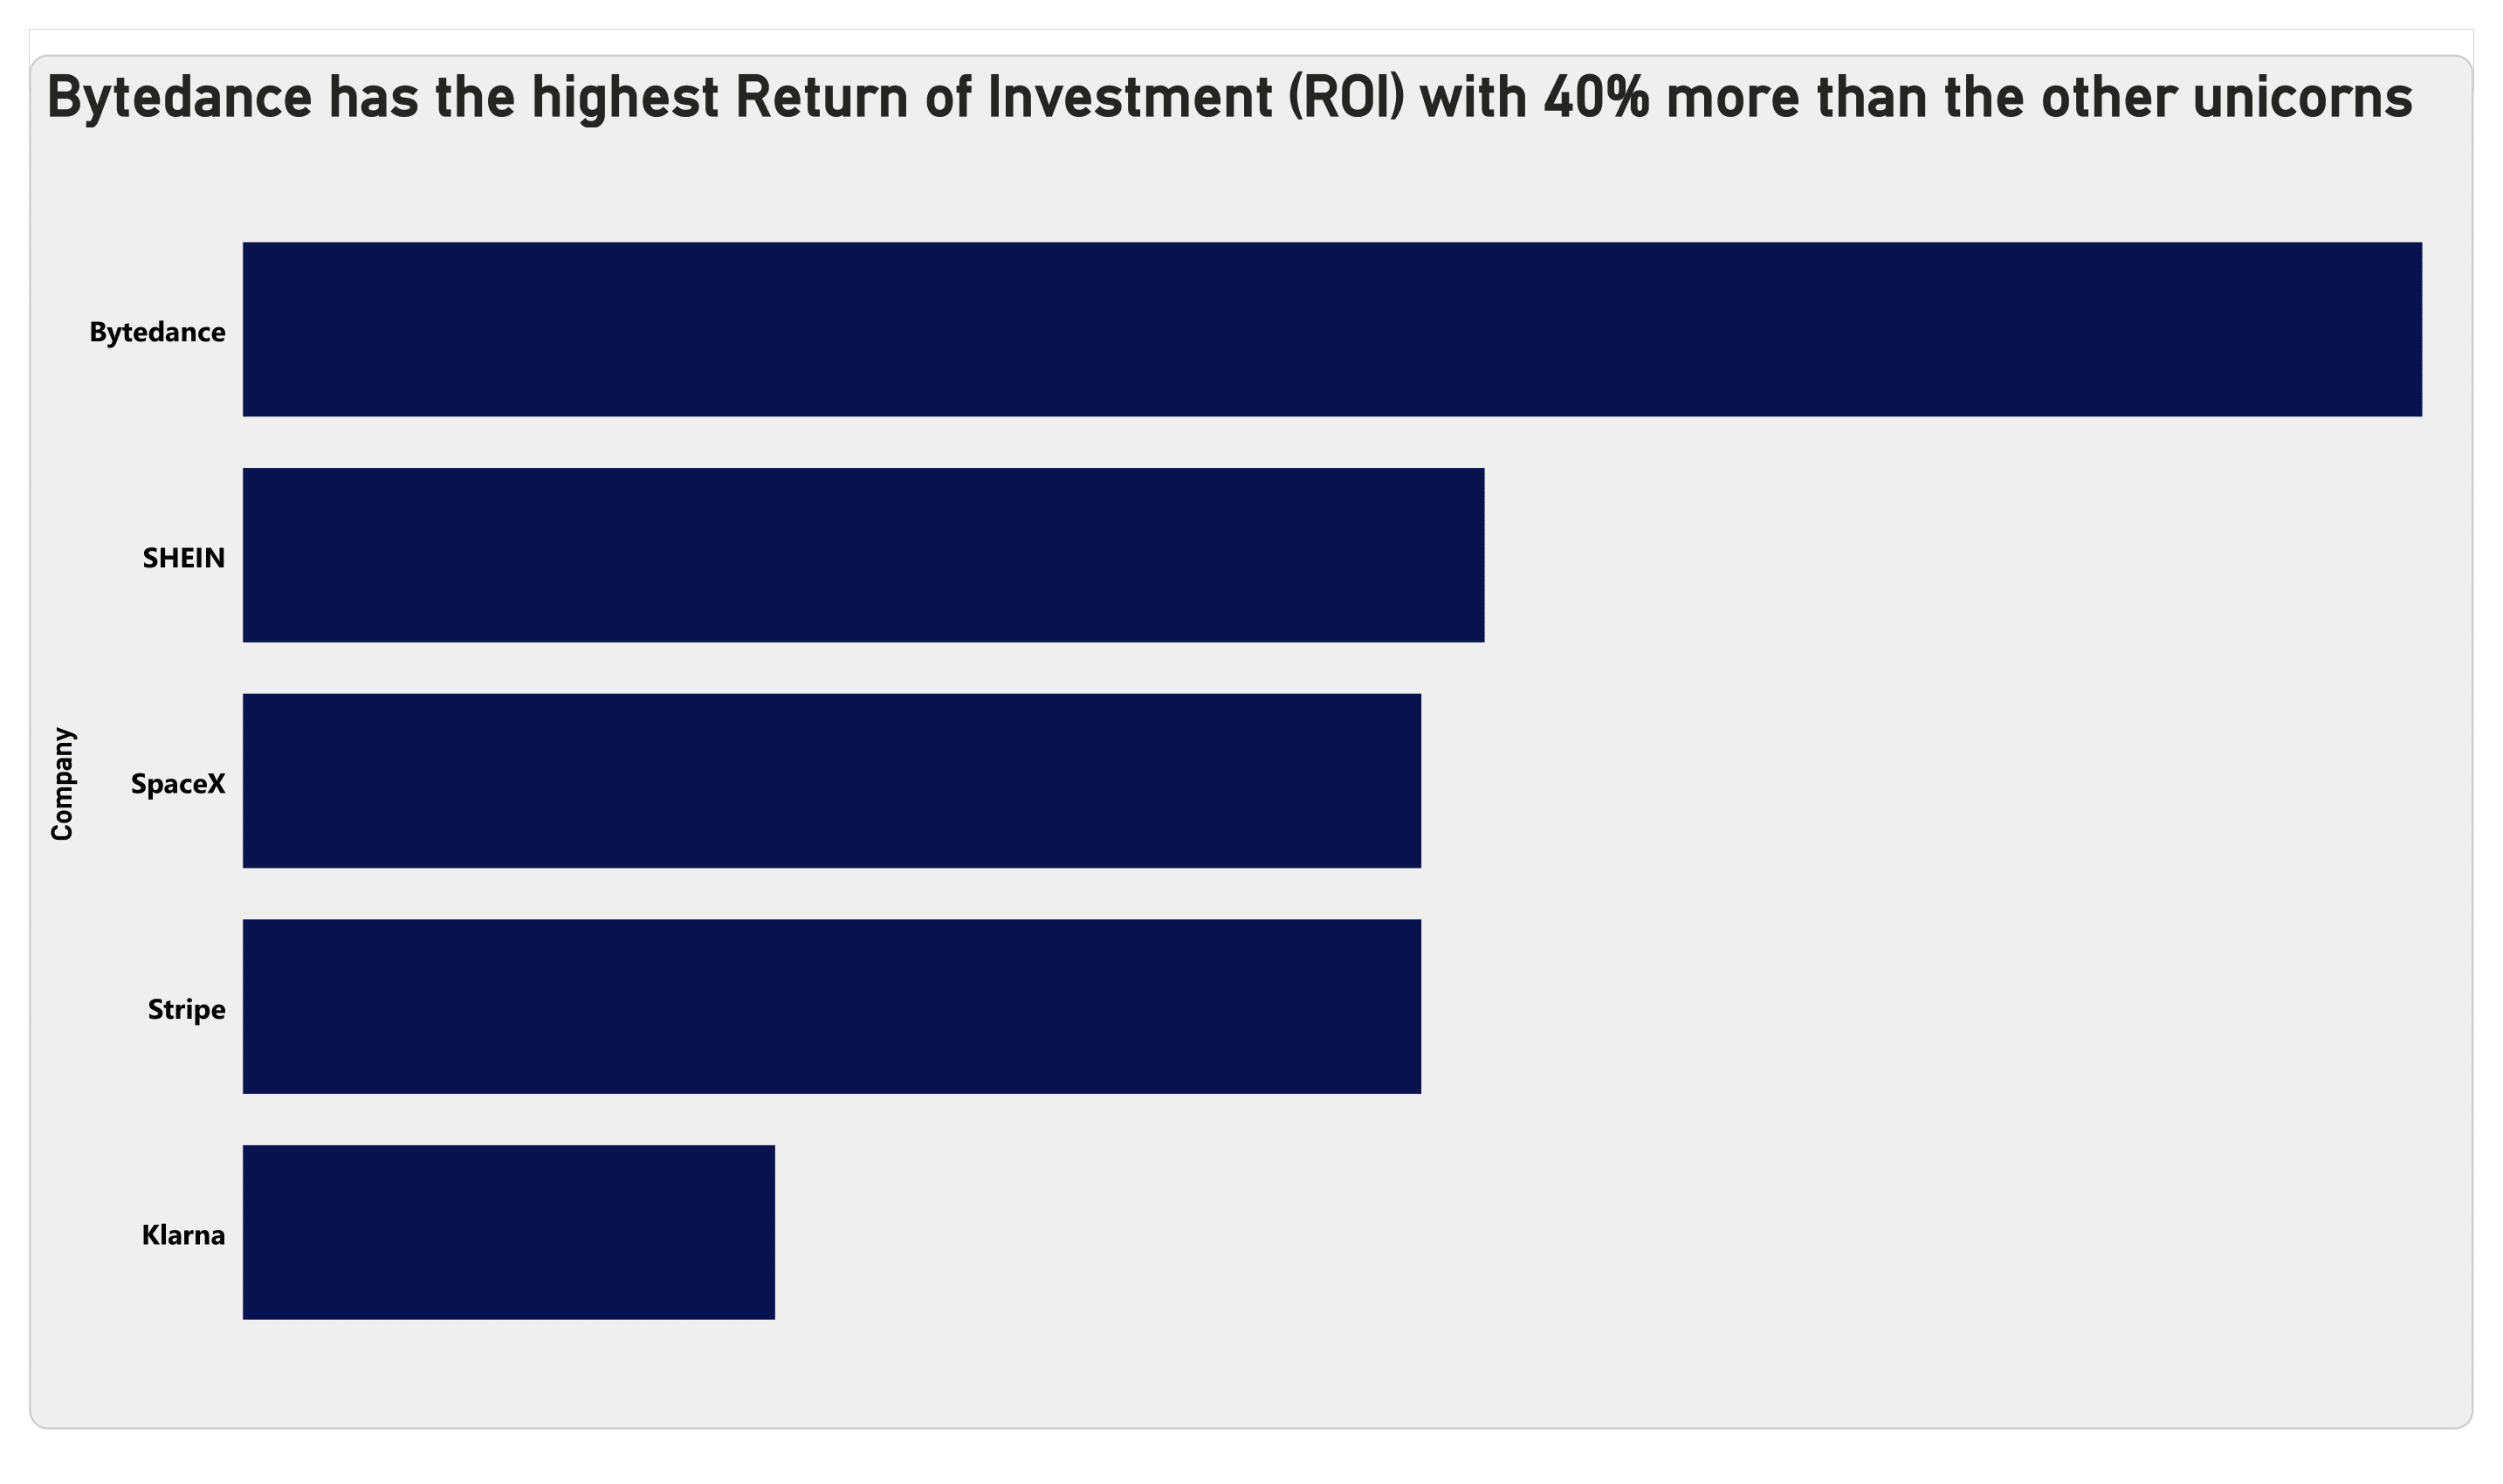

Layout of this report page (visuals, bound fields, positions):
{"tool":"powerbi","page":{"name":"Page 6","canvas":[1280,720],"ordinal":5},"visuals":[{"type":"barChart","title":"Bytedance has the highest Return of Investment (ROI) with 40% more than the other unicorns","fields":{"Category":["Unicorn_Companies.Company"],"Y":["Sum(Unicorn_Companies.ROI)"]},"box":[0,0,1280.2,720],"z":0}]}

Visuals, with their boxes on the page's 1280x720 design canvas (x1, y1, x2, y2). These are canvas units, not pixel positions in the 2503x1484 screenshot, which may show the page scaled, cropped or inside an application window:
"Bytedance has the highest Return of Investment (ROI) with 40% more than the other unicorns" barChart: <region>0, 0, 1280, 720</region>
